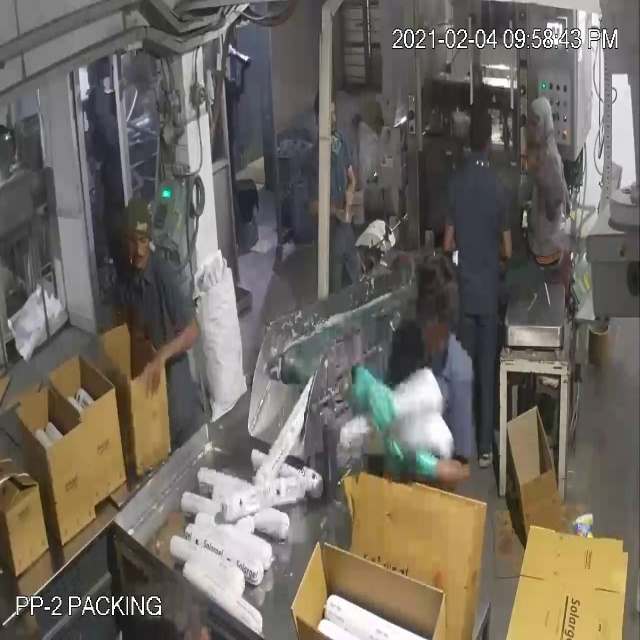Guantes: (376, 435, 480, 506), (336, 346, 401, 439)
Sin_guantes: (130, 305, 213, 404), (340, 164, 364, 227)
